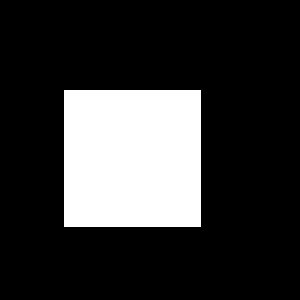circle: (64, 90, 201, 227)
